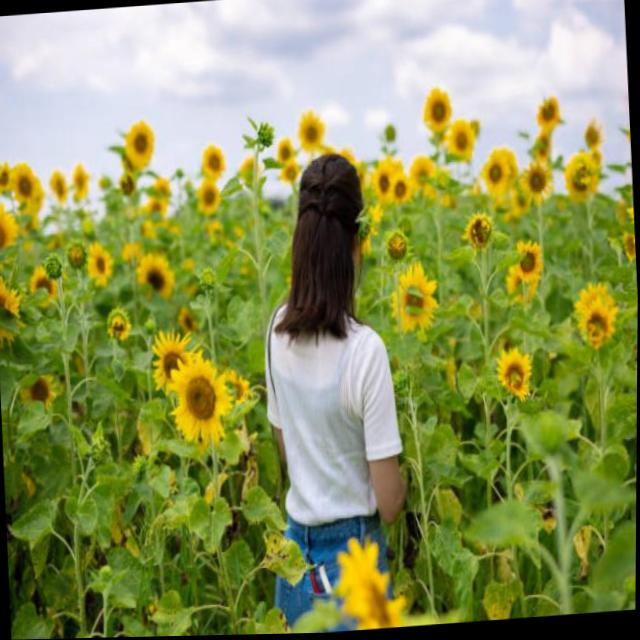no helmet: (266, 117, 386, 344)
